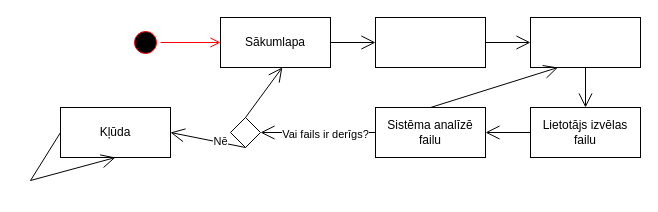
This 658x212 diagram has some shape labels left out. The shapes that lost their labels are listed below. From the top down, each one's centre as x and y in pixels, then its label:
At (x=430, y=42): "Lietotājs nospiež ''Augšuplādēt failu''".
At (x=585, y=42): "Faila izvēles logs".
